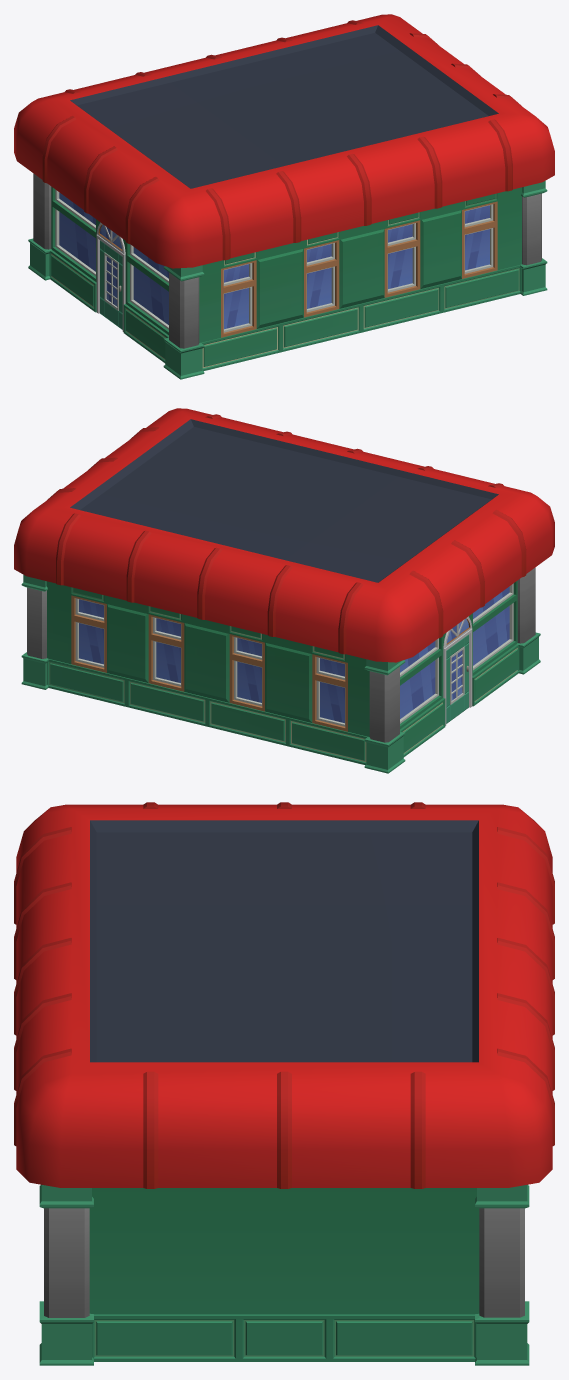
Rendered from Building_12_H.fbx.
The picture shows the model from 3 angles, top to bottom: view 1: azimuth 30°, elevation 25°; view 2: azimuth 150°, elevation 25°; view 3: azimuth 270°, elevation 25°; orthographic projection. The views are drawn at different scales.
Parts seen in each view (by area): view 1: Building_12_H; view 2: Building_12_H; view 3: Building_12_H.
Part boxes in pixels (<box>): Building_12_H: <box>14,14,554,379</box>; Building_12_H: <box>14,408,554,773</box>; Building_12_H: <box>14,802,554,1365</box>.
Bounding box in the file's own units: 1053 × 440 × 770.
